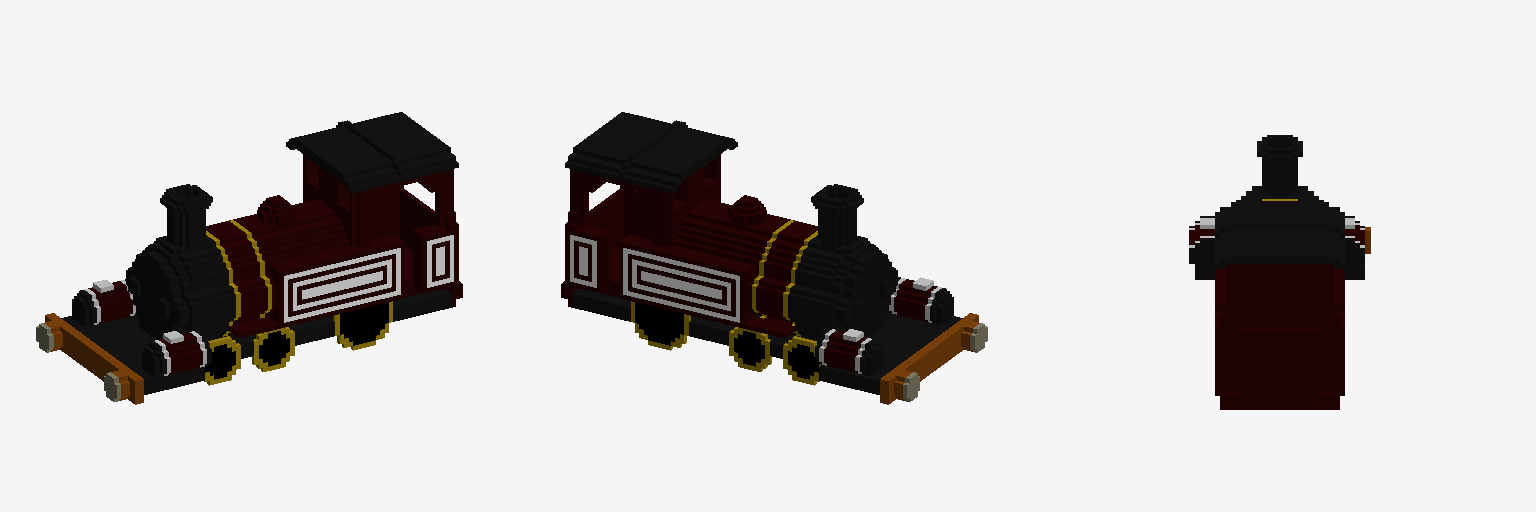
The picture shows the model from 3 angles: view 1: azimuth 30°, elevation 25°; view 2: azimuth 150°, elevation 25°; view 3: azimuth 270°, elevation 25°; orthographic projection.
Size of the model in its own units: 80 by 38 by 35.
1 materials, 1 textured.